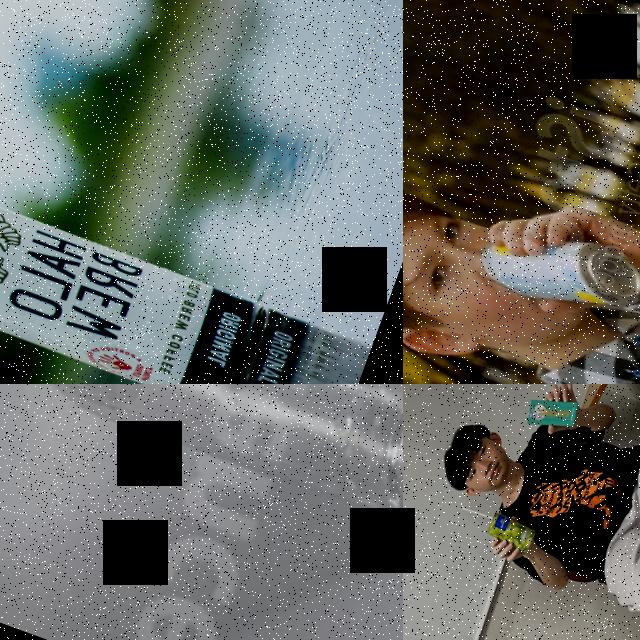bottle: (0, 384, 403, 551)
can: (0, 138, 262, 384), (472, 204, 640, 334), (484, 509, 538, 554)
